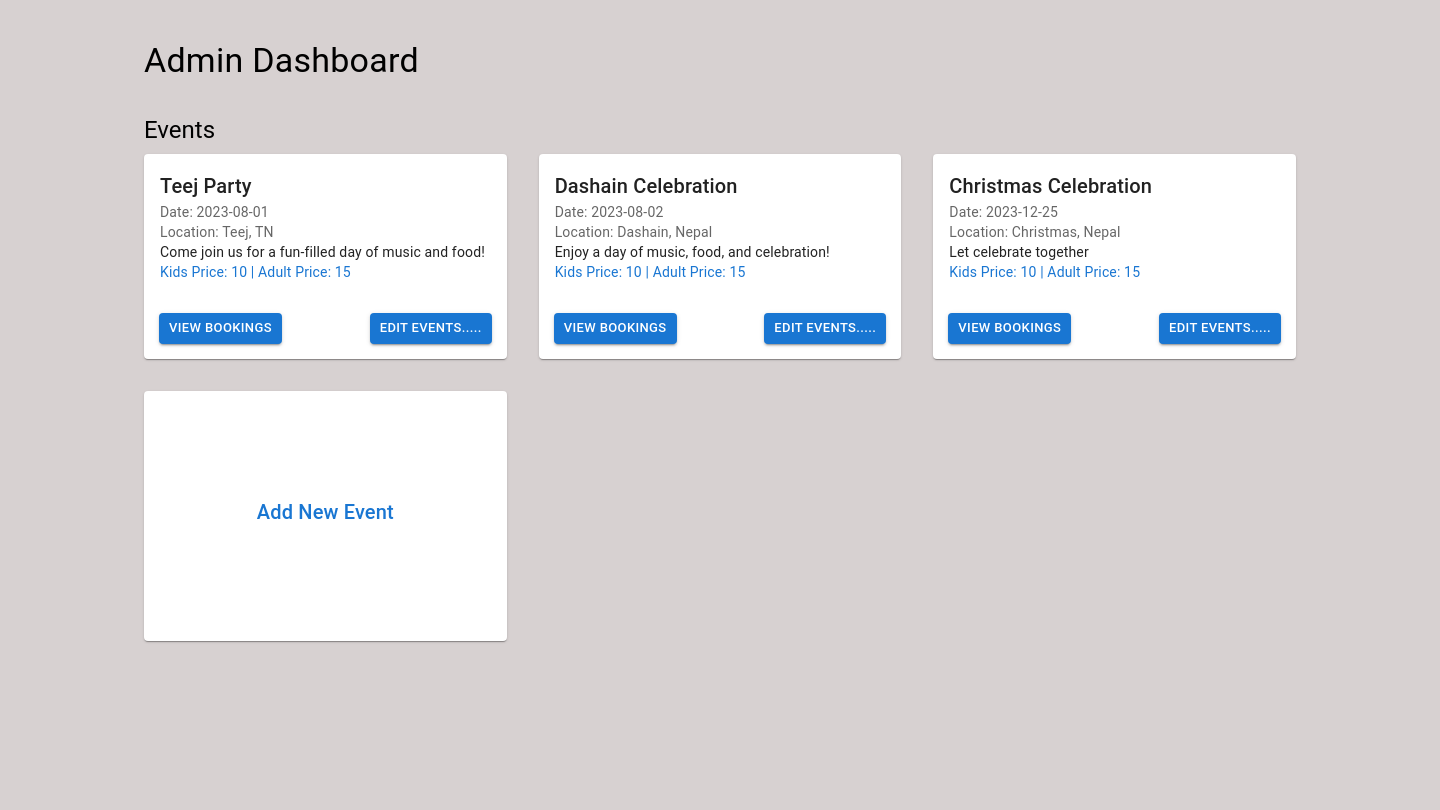
Scenario: Add Event Functionality › should open the add event modal when Add Event button is clicked
Expected: the heading "Teej Party" is shown, [160,174,252,198]
Click the element with test id "add-event-button".
click(325, 512)  # box [257,500,394,524]
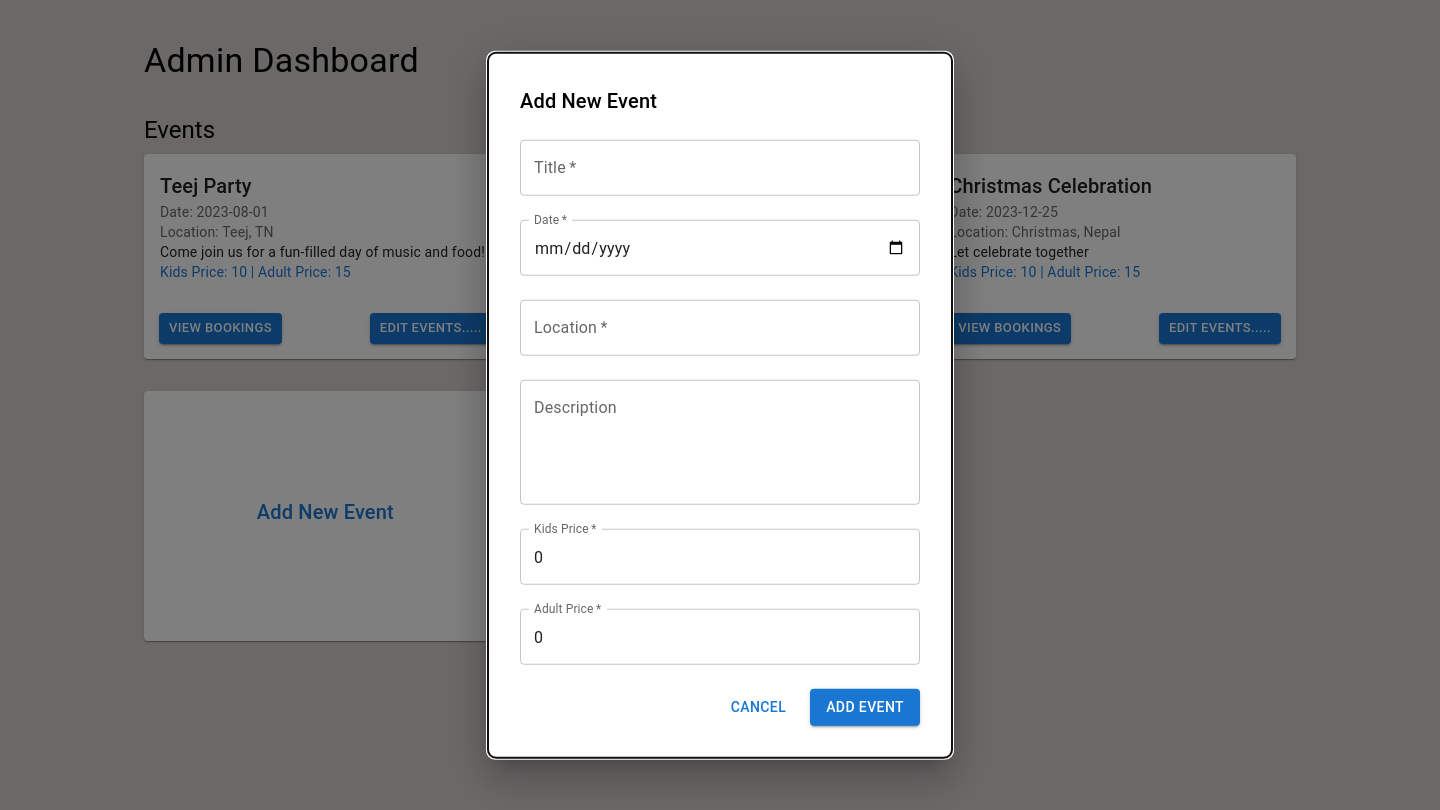
Expected: the element with test id "add-event-modal" is shown
